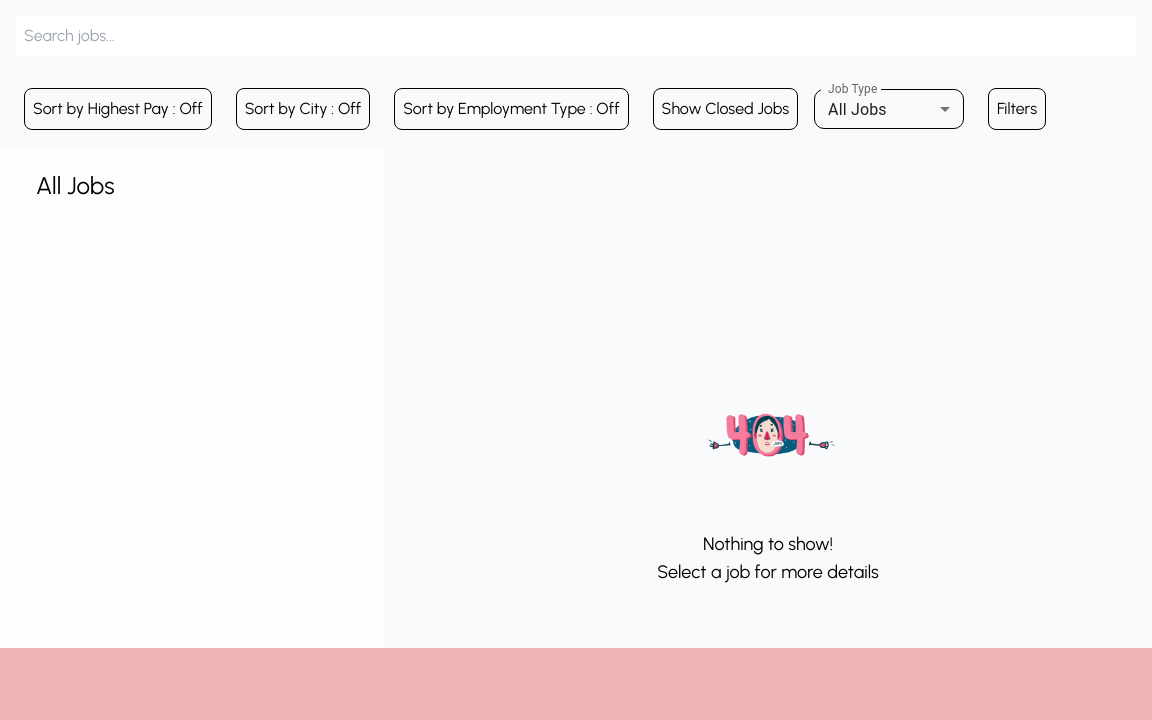
Explore Page › toggles sort by employment type button text
The image size is (1152, 720).
Click the button "Sort by Employment Type : Off" at (511, 109), box left=394, top=88, right=629, bottom=130
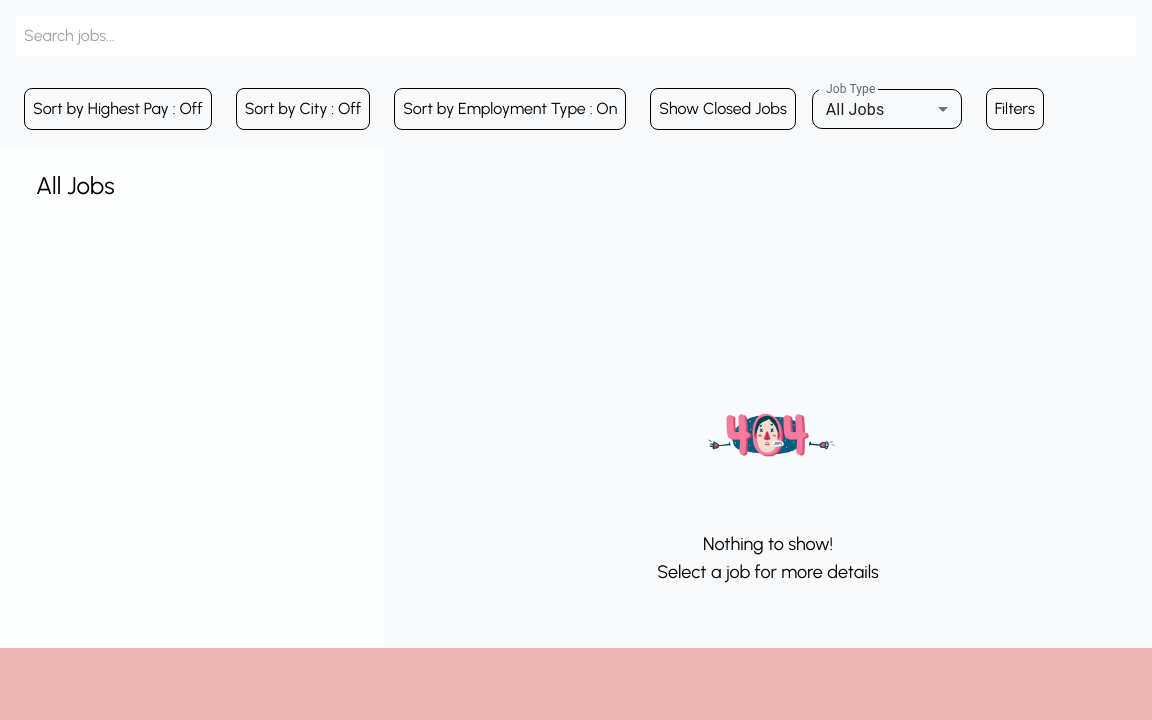
Now the button "Sort by Employment Type : Off" reads "Sort by Employment Type : On", box left=394, top=88, right=626, bottom=130
